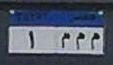1: (26, 30, 37, 50)
meem: (88, 31, 101, 52), (74, 31, 85, 51), (60, 32, 71, 50)
